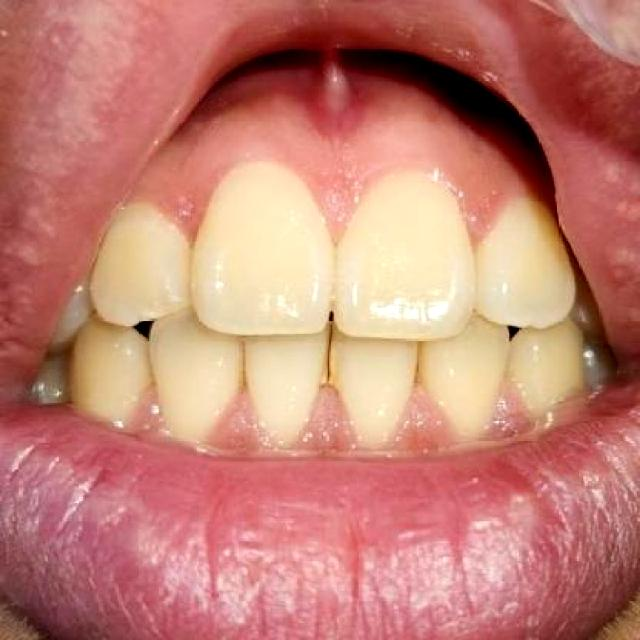Plaque: (164, 176, 212, 246)
